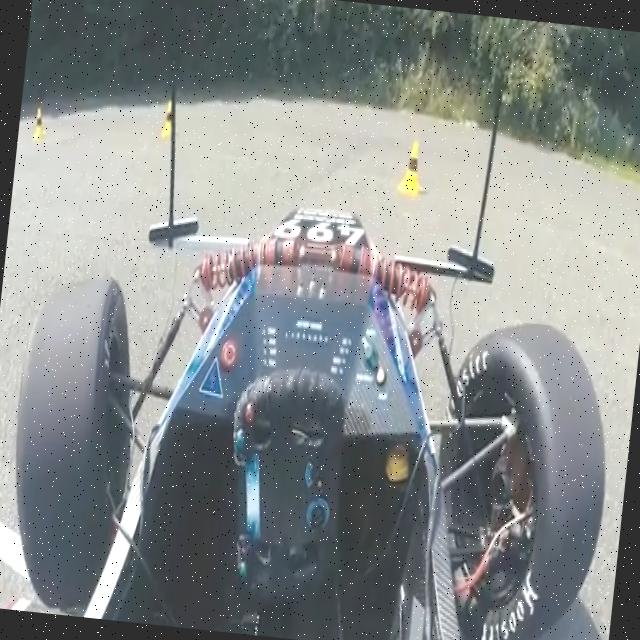yellow_cone: (396, 139, 428, 199), (160, 99, 179, 139), (32, 108, 48, 140)
